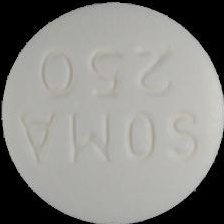21695-606: (0, 0, 224, 224)
